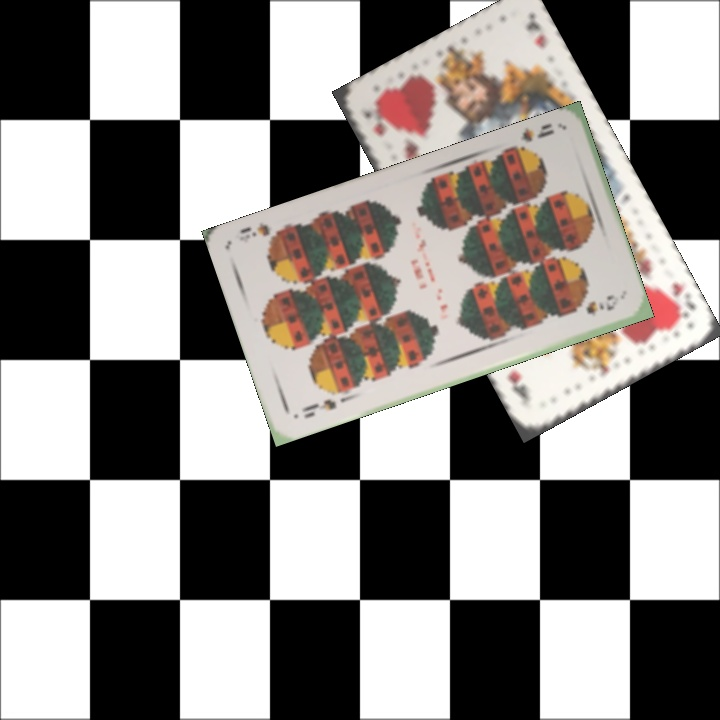HK: (660, 278, 699, 322), (361, 107, 389, 139)
S9: (506, 119, 557, 157), (298, 395, 339, 421)
